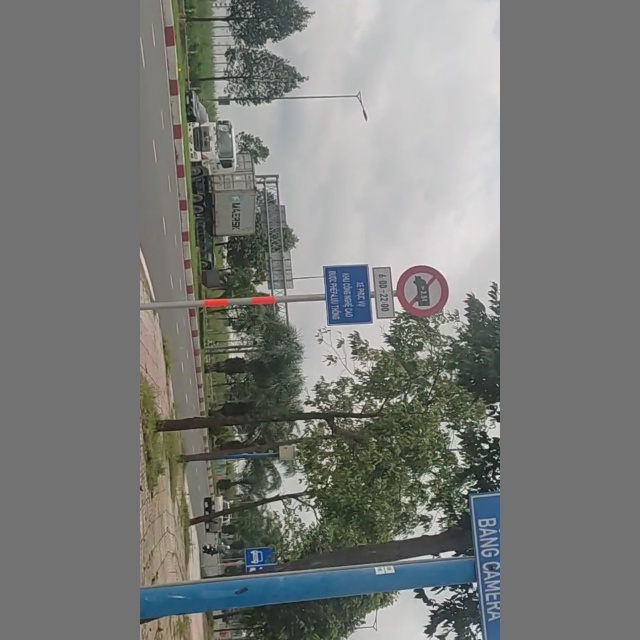P.106a*Xe tai: (396, 265, 448, 316)
